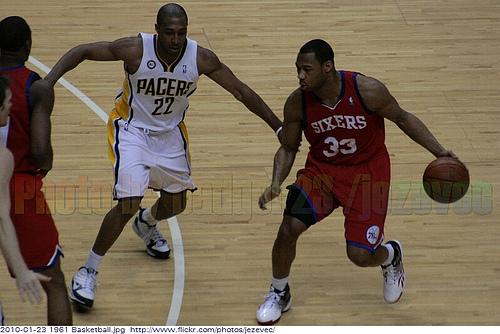basketball: (423, 157, 470, 203)
